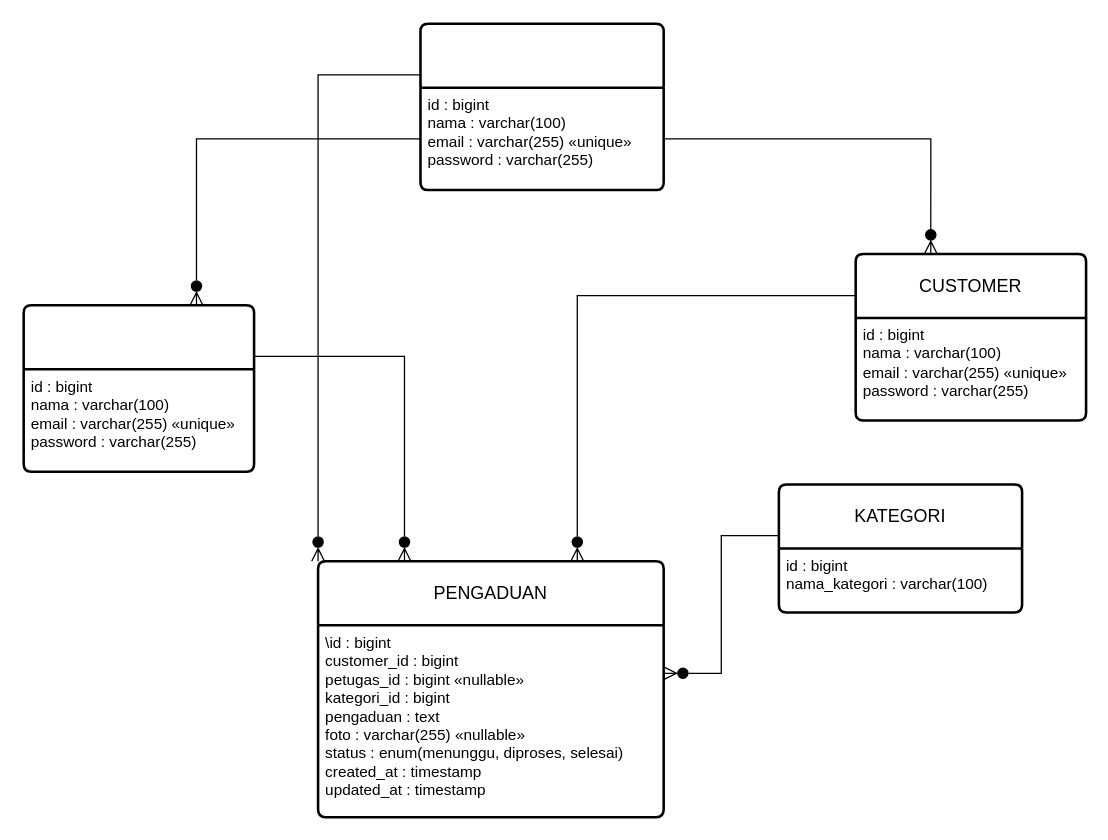
The diagram is 1108 pixels wide and 840 high, and some of its shapes have lost their labels. Each missing label, with the box of its shape:
ADMIN: (419, 22, 664, 191)
PETUGAS: (22, 303, 255, 472)
